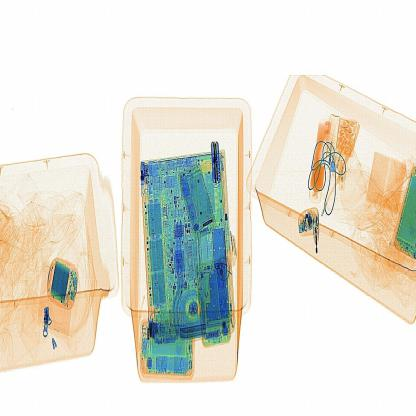scissors: (210, 138, 224, 186)
